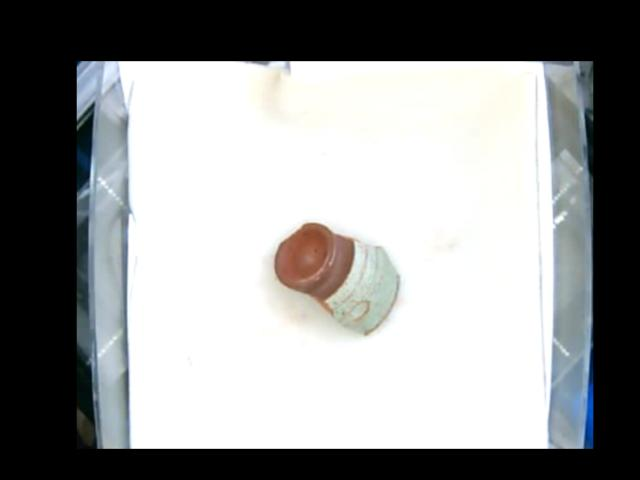China: (272, 223, 402, 333)
